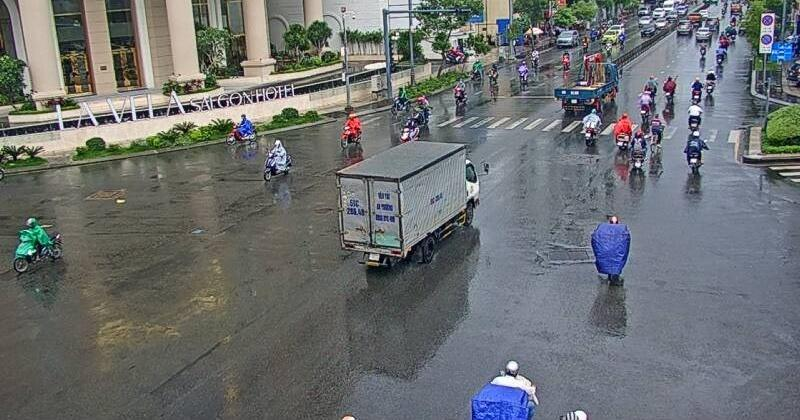xe hoi: (554, 62, 621, 111)
xe may: (12, 216, 62, 272), (262, 137, 293, 180), (683, 128, 708, 175), (228, 111, 256, 143), (628, 130, 648, 171), (580, 108, 600, 146), (612, 113, 632, 149), (340, 113, 361, 146), (399, 116, 419, 144)
xe tai: (337, 140, 480, 270)
